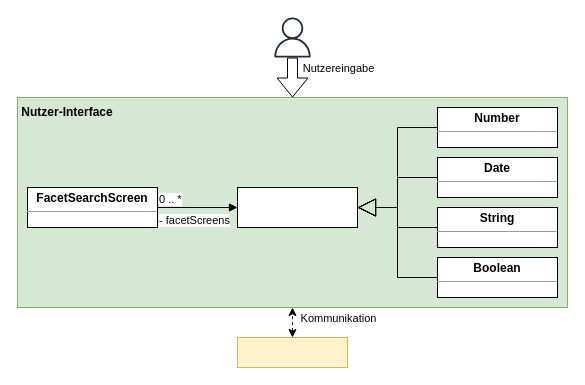
Image size: 585x385. Some labels were removed from this diagram. Here are the shapes that lost their labels. From the top down, the centre of each, then its label:
point 297,207: FacetTypeScreen
point 292,352: Business-Logik
